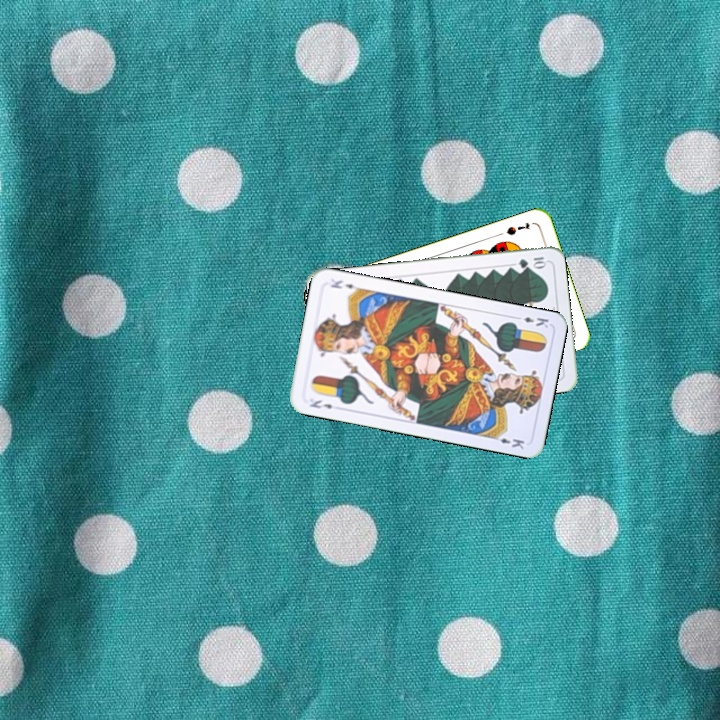EK: (511, 312, 551, 330), (306, 396, 335, 411)
G10: (515, 253, 549, 270)
S7: (502, 219, 533, 238)
